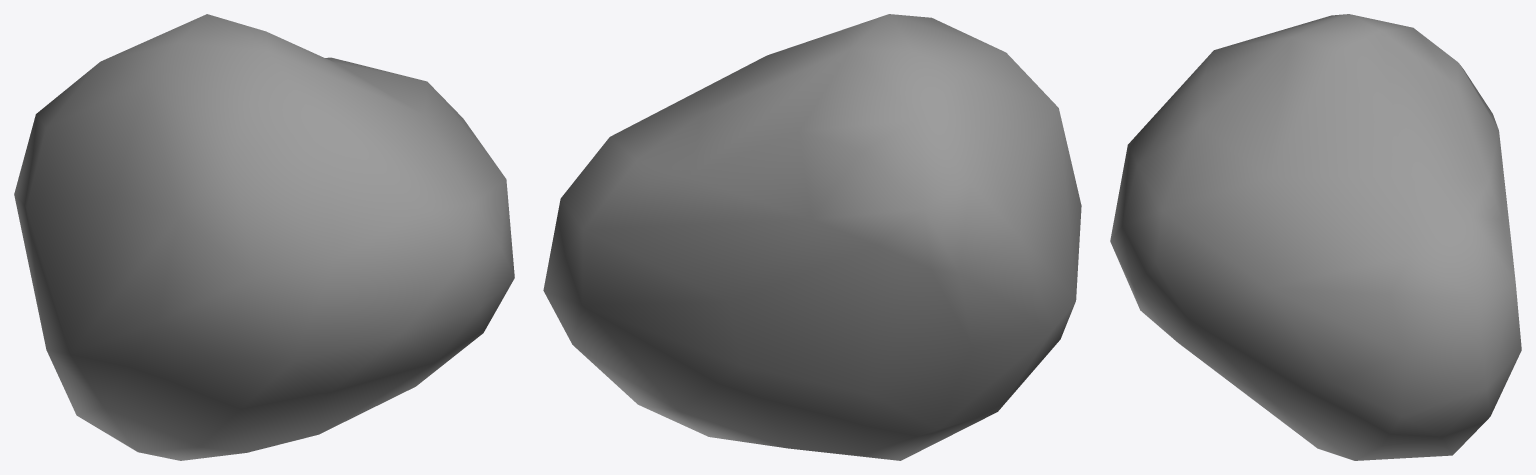
File: SoftRock_12.fbx
The picture shows the model from 3 angles, left to right: view 1: azimuth 30°, elevation 25°; view 2: azimuth 150°, elevation 25°; view 3: azimuth 270°, elevation 25°; orthographic projection. The views are drawn at different scales.
Parts seen in each view (by area): view 1: SoftRock_12; view 2: SoftRock_12; view 3: SoftRock_12.
Boxes of the visible parts, bbox=[...] form: SoftRock_12: bbox=[14, 14, 514, 460]; SoftRock_12: bbox=[543, 14, 1081, 460]; SoftRock_12: bbox=[1110, 14, 1521, 460].
Size of the model in its own units: 95.55 by 81.13 by 82.16.
